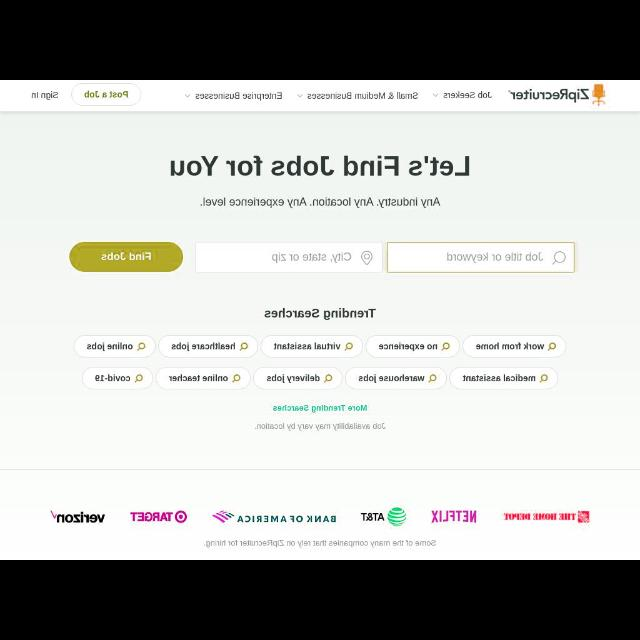icon: (550, 251, 566, 267), (361, 251, 374, 265), (344, 342, 354, 353), (238, 342, 248, 352), (135, 342, 145, 352), (442, 342, 450, 354), (548, 343, 556, 353), (428, 374, 436, 384), (324, 374, 332, 384), (232, 374, 240, 384), (540, 374, 548, 382), (135, 375, 143, 383), (430, 92, 440, 98), (296, 92, 304, 98), (185, 92, 191, 100)
image: (508, 83, 604, 109), (212, 511, 338, 527), (503, 511, 589, 525), (49, 510, 106, 526), (360, 508, 406, 526), (130, 510, 188, 524), (429, 510, 476, 524)
input: (387, 242, 573, 272), (195, 242, 381, 272)
spinner: (294, 90, 418, 104), (184, 90, 282, 104), (428, 89, 494, 105)
text: (170, 155, 470, 179), (198, 196, 440, 208), (202, 539, 436, 549), (264, 306, 376, 318), (254, 421, 386, 431), (446, 252, 542, 264), (270, 251, 352, 265), (272, 402, 366, 414), (306, 93, 418, 103), (195, 92, 282, 102), (357, 374, 423, 386), (474, 343, 544, 353), (274, 342, 340, 352), (170, 342, 236, 352), (443, 91, 493, 103), (168, 374, 228, 384), (379, 342, 437, 352), (266, 374, 320, 384), (101, 252, 151, 262), (82, 90, 130, 100), (462, 376, 536, 382), (87, 342, 133, 350), (96, 374, 130, 384), (30, 91, 60, 99)
textbutton: (70, 244, 182, 272), (72, 84, 140, 106)
toolbar: (1, 80, 639, 110)
